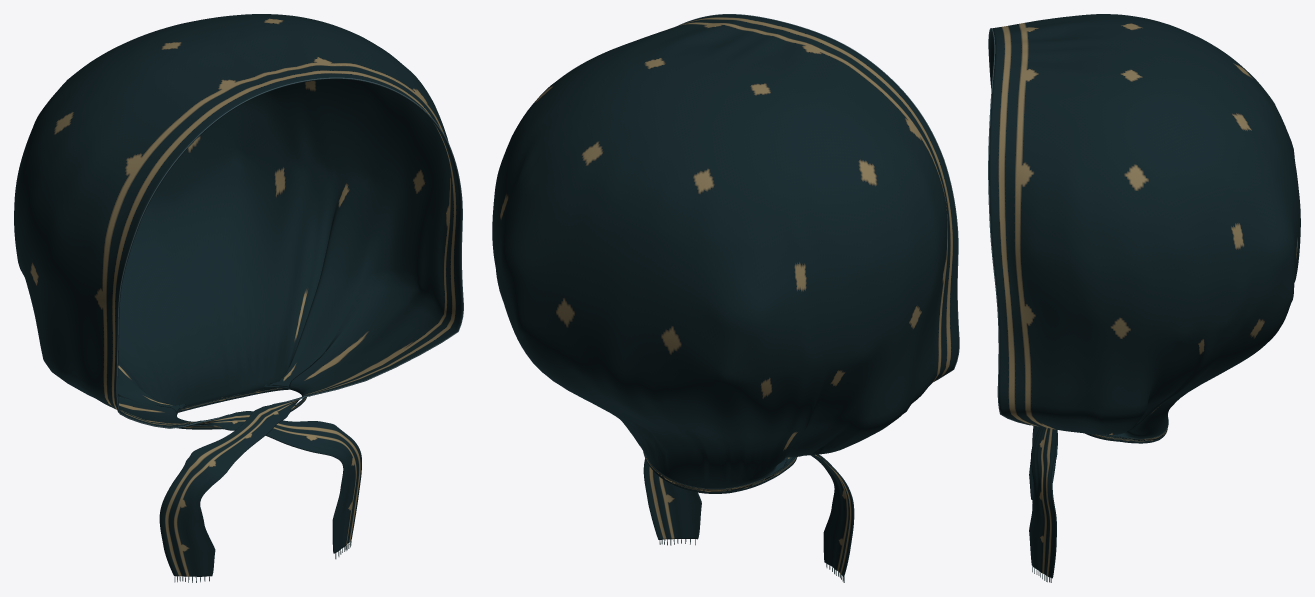
Rendered from Masculine-middle-part-tank-pashmina249-headgear.glb.
3 renders of one model, left to right at view 1: azimuth 30°, elevation 25°; view 2: azimuth 150°, elevation 25°; view 3: azimuth 270°, elevation 25°, orthographic. The views are drawn at different scales.
Parts seen in each view (by area): view 1: 226 headgear / Headwear / continuous woven pashmina239, 226 headgear / Headwear / face edge239; view 2: 226 headgear / Headwear / continuous woven pashmina239, 226 headgear / Headwear / face edge239; view 3: 226 headgear / Headwear / continuous woven pashmina239, 226 headgear / Headwear / face edge239.
Boxes of the visible parts, x1,y1,x2,y2 form: 226 headgear / Headwear / continuous woven pashmina239: (14,14,462,576); 226 headgear / Headwear / face edge239: (116,77,463,428); 226 headgear / Headwear / continuous woven pashmina239: (492,14,958,576); 226 headgear / Headwear / face edge239: (678,14,959,381); 226 headgear / Headwear / continuous woven pashmina239: (989,14,1300,578); 226 headgear / Headwear / face edge239: (988,28,1032,425).
Size of the model in its own units: 1.12 by 1.39 by 0.7917.
3 materials, 1 textured.
